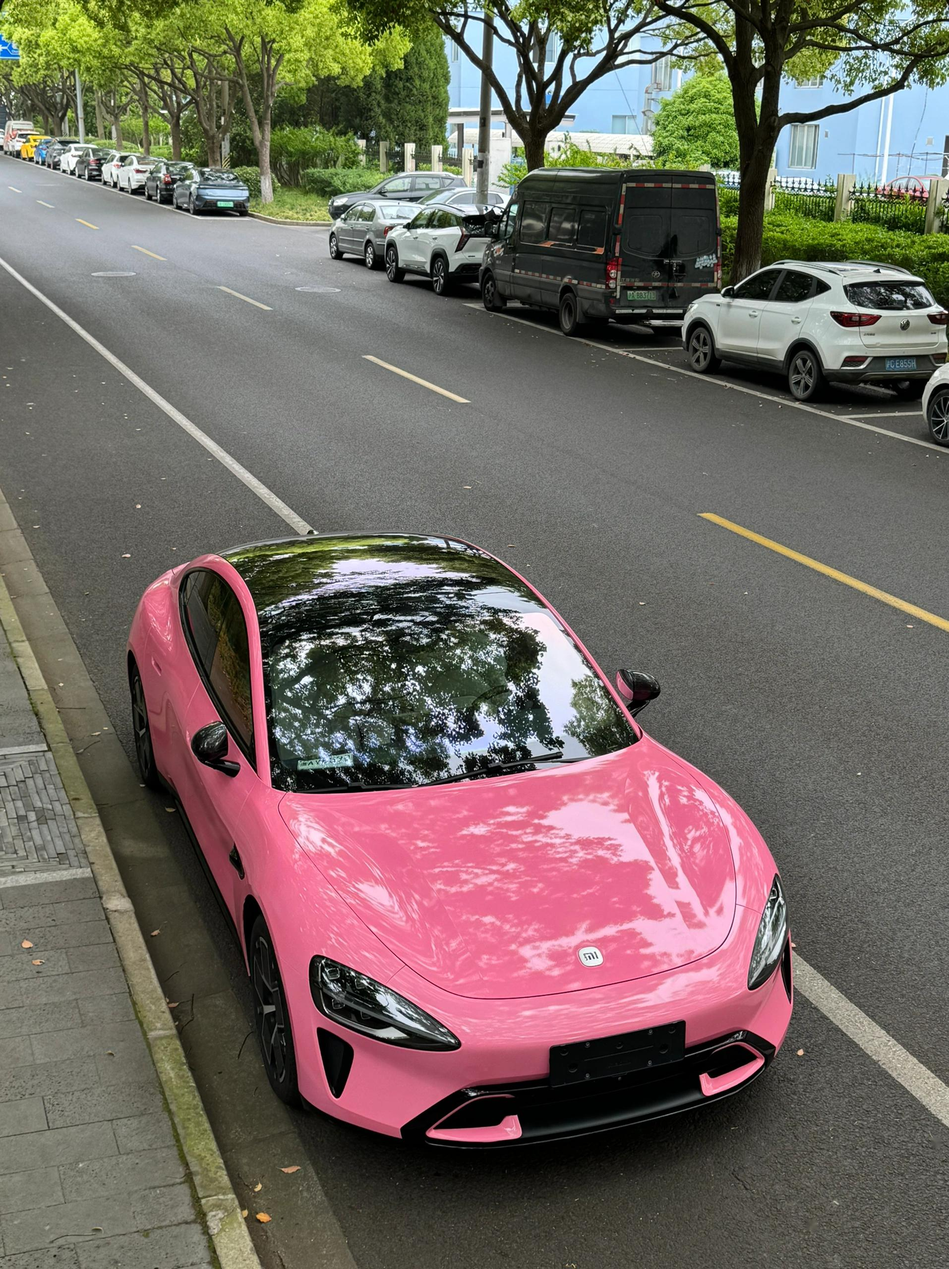other: (468, 159, 735, 333), (696, 247, 946, 394), (386, 204, 506, 287), (334, 195, 422, 258), (177, 164, 262, 214)
su7: (140, 496, 795, 1179)
